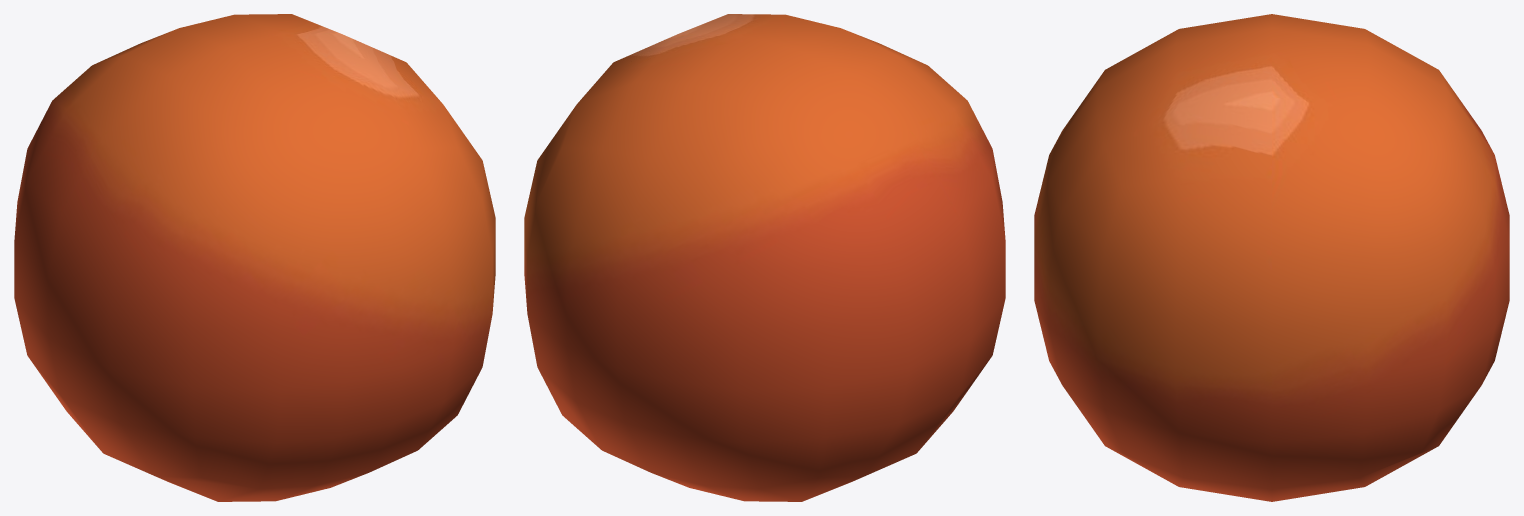
The model's file is SM_MOLECULA_ELECTRON_LVL2.fbx.
3 views of the same model, side by side, from view 1: azimuth 30°, elevation 25°; view 2: azimuth 150°, elevation 25°; view 3: azimuth 270°, elevation 25° (orthographic).
Visible parts, largest first — view 1: SM_MOLECULA_ELECTRON_LVL2; view 2: SM_MOLECULA_ELECTRON_LVL2; view 3: SM_MOLECULA_ELECTRON_LVL2.
Part boxes in pixels (x1,y1,x2,y2): SM_MOLECULA_ELECTRON_LVL2: (14, 14, 495, 501); SM_MOLECULA_ELECTRON_LVL2: (524, 14, 1005, 501); SM_MOLECULA_ELECTRON_LVL2: (1034, 14, 1509, 501).
Size of the model in its own units: 7 by 7 by 7.
Materials: 1 (1 with a texture image).
